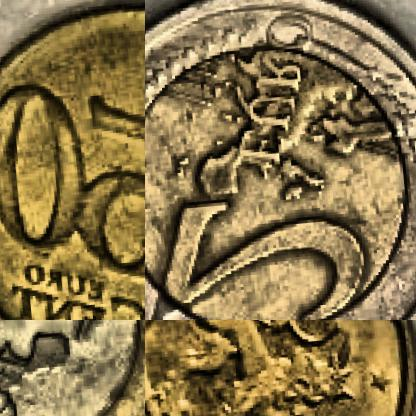coin: (145, 0, 415, 319), (0, 0, 144, 319), (145, 320, 415, 415), (0, 320, 144, 415)
